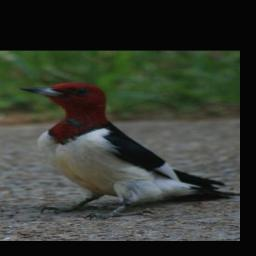Woodpecker: (13, 81, 240, 218)
